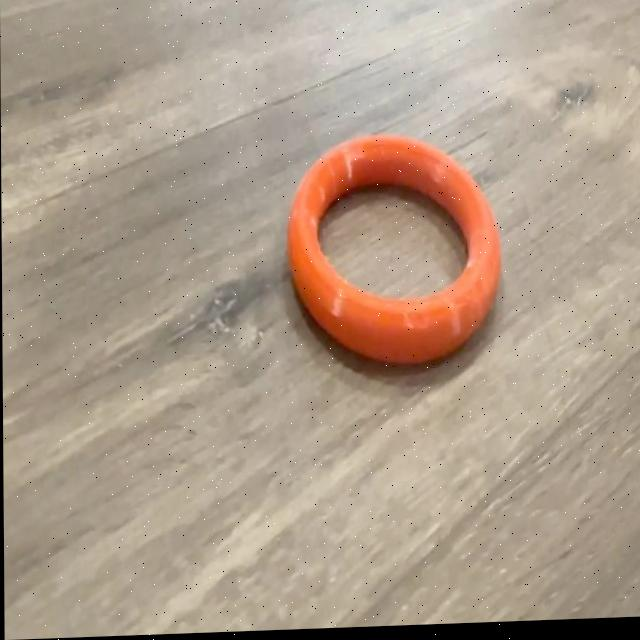note: (285, 131, 504, 379)
